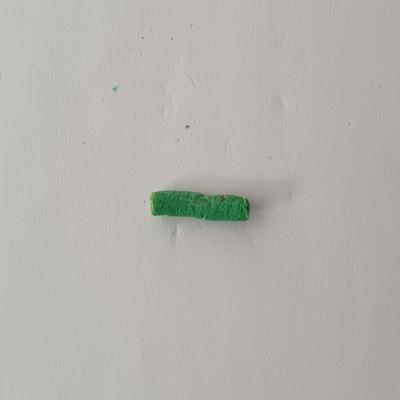plastic: (145, 181, 254, 230)
